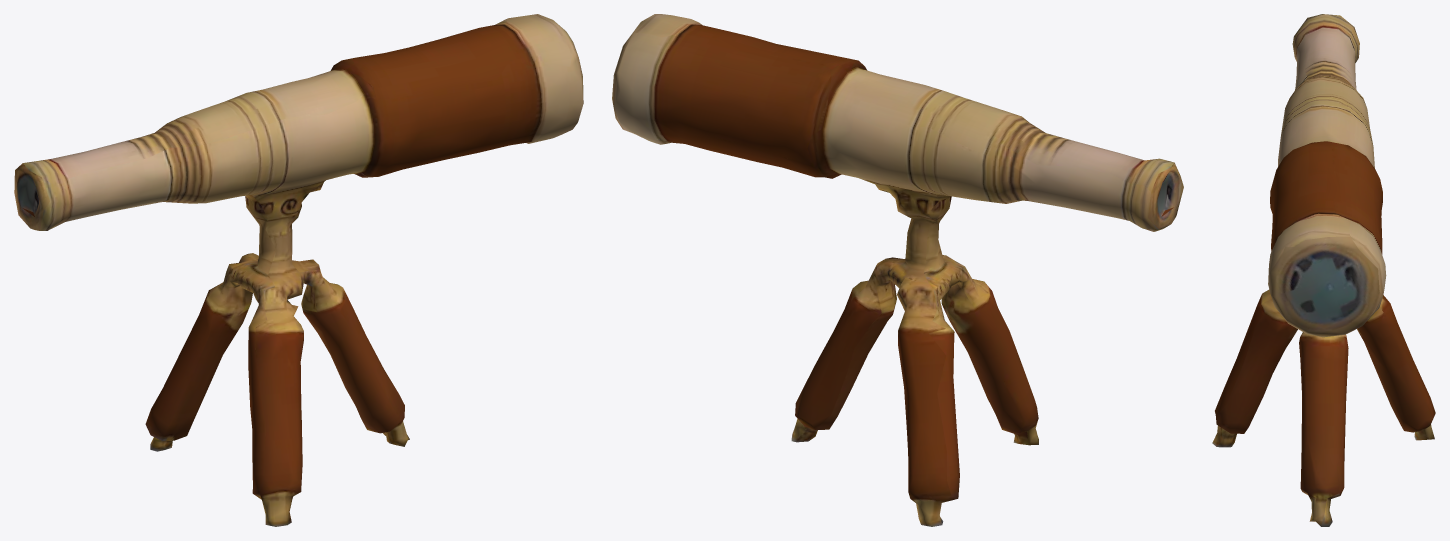
The model's file is prop_brass_telescope.glb.
3 views of the same model, side by side, from view 1: azimuth 30°, elevation 25°; view 2: azimuth 150°, elevation 25°; view 3: azimuth 270°, elevation 25° (orthographic). The views are drawn at different scales.
Visible parts, largest first — view 1: geometry_0; view 2: geometry_0; view 3: geometry_0.
Part boxes in pixels (x1=…): geometry_0: x1=14, y1=14, x2=583, y2=526; geometry_0: x1=612, y1=14, x2=1183, y2=526; geometry_0: x1=1212, y1=14, x2=1435, y2=526.
Bounding box in the file's own units: 1.18 × 0.8145 × 0.4531.
1 material, 1 textured.
